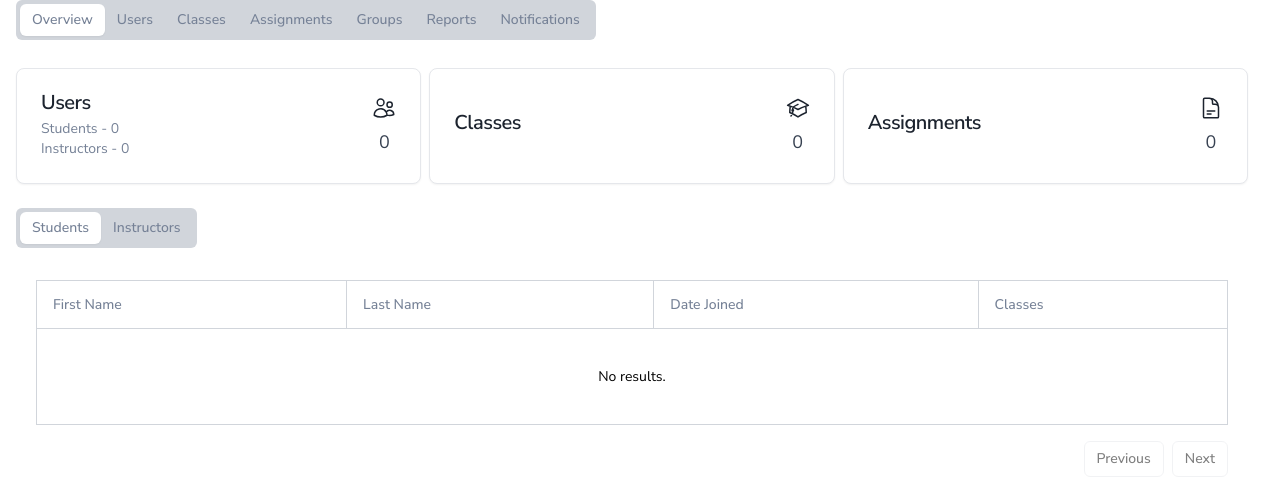
Scenario: AdminDashboard Component › renders Reports tab content when Reports tab is clicked
Click the tab "Reports" at (451, 20), box left=414, top=4, right=488, bottom=36
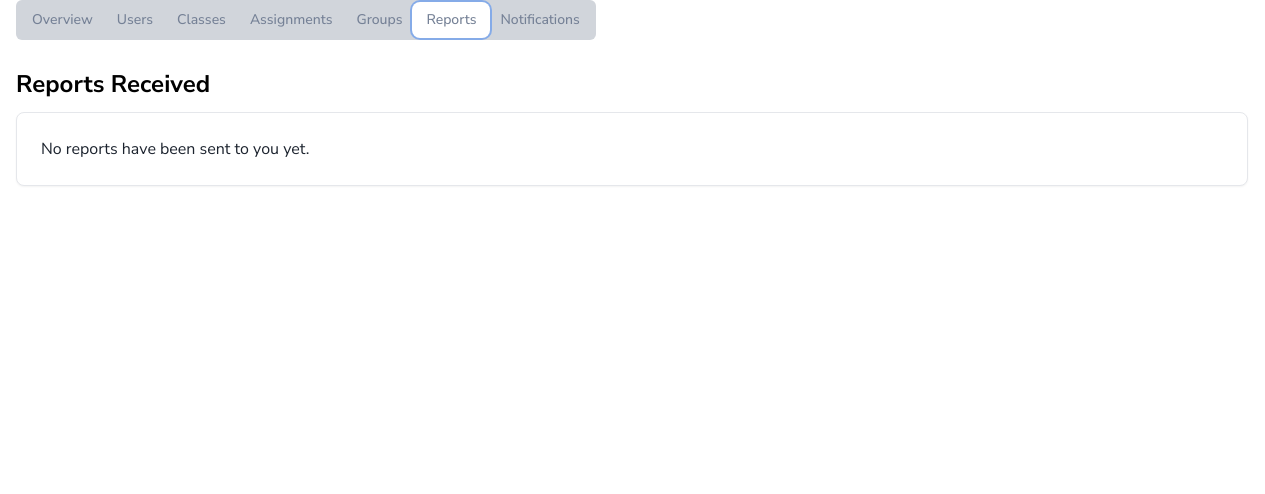
Expected: the heading "Reports Received" is shown, left=16, top=68, right=210, bottom=100
